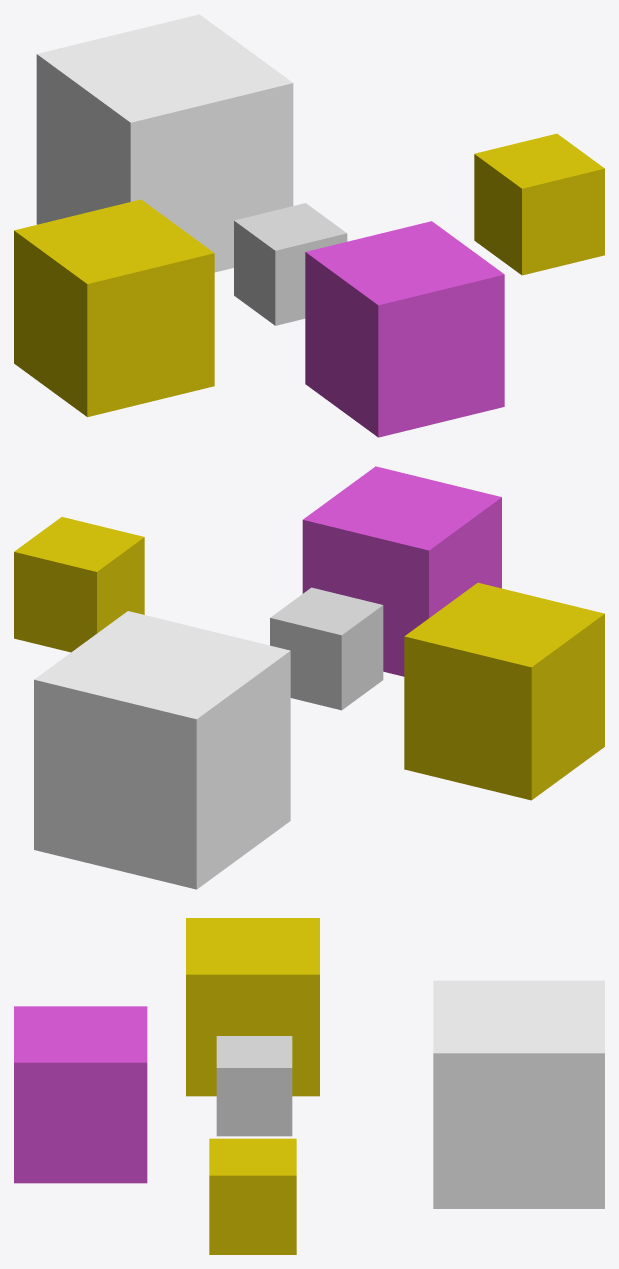
File: cubes.gltf
3 views of the same model, one above another, from view 1: azimuth 30°, elevation 25°; view 2: azimuth 150°, elevation 25°; view 3: azimuth 270°, elevation 25° (orthographic). The views are drawn at different scales.
Visible parts, largest first — view 1: Cube.001, Cube.003, Cube, Cube.002, Cube.004; view 2: Cube.001, Cube.003, Cube, Cube.002, Cube.004; view 3: Cube.001, Cube, Cube.003, Cube.002, Cube.004.
Boxes of the visible parts, bbox=[...] form: Cube.001: bbox=[36, 14, 293, 272]; Cube.003: bbox=[14, 199, 214, 417]; Cube: bbox=[305, 221, 504, 437]; Cube.002: bbox=[474, 133, 604, 275]; Cube.004: bbox=[234, 203, 347, 325]; Cube.001: bbox=[34, 611, 290, 889]; Cube.003: bbox=[404, 582, 604, 800]; Cube: bbox=[302, 466, 501, 676]; Cube.002: bbox=[14, 517, 144, 652]; Cube.004: bbox=[270, 587, 383, 710]; Cube.001: bbox=[433, 980, 604, 1208]; Cube: bbox=[14, 1006, 147, 1183]; Cube.003: bbox=[186, 918, 319, 1096]; Cube.002: bbox=[209, 1138, 296, 1254]; Cube.004: bbox=[216, 1036, 292, 1136].
Size of the model in its own units: 1.91 by 0.5869 by 2.02.
